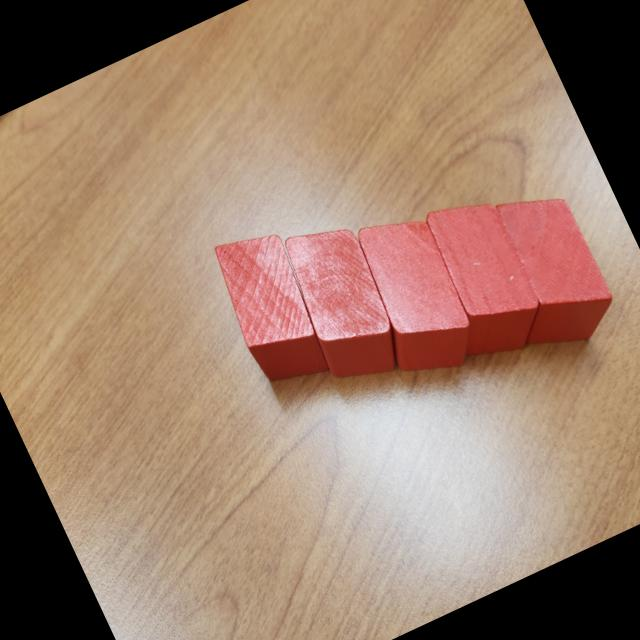red: (466, 176, 626, 366), (403, 184, 558, 374), (337, 200, 490, 392), (272, 212, 415, 396), (202, 218, 340, 398)
